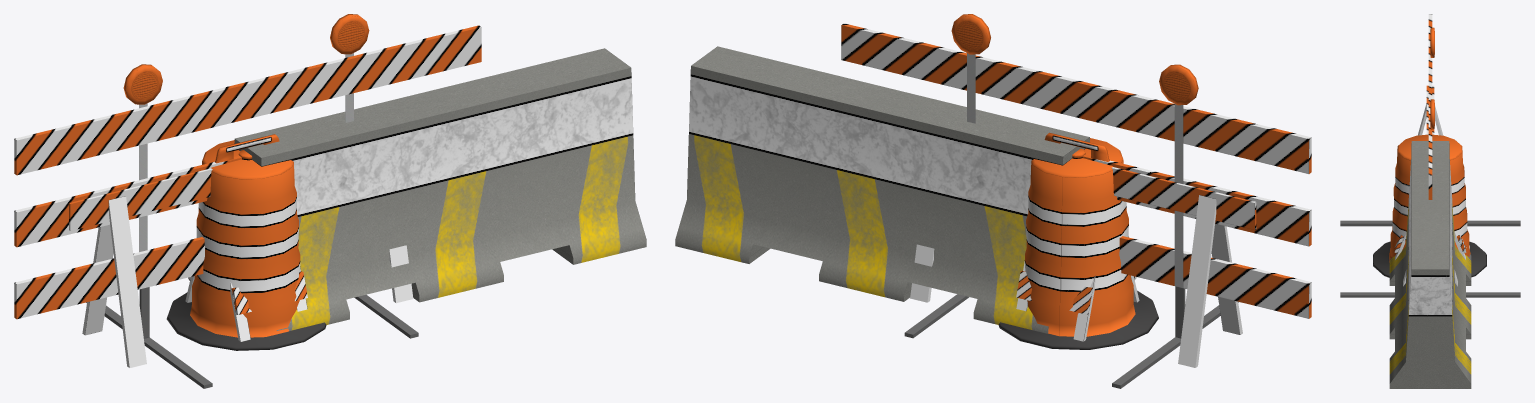
The model's file is roadblocks_mesh.fbx.
3 views of the same model, side by side, from view 1: azimuth 30°, elevation 25°; view 2: azimuth 150°, elevation 25°; view 3: azimuth 270°, elevation 25° (orthographic). The views are drawn at different scales.
Visible parts, largest first — view 1: roadBarrier, bigRoadblock, trafficBarrel, mediumRoadblock, smallRoadblock; view 2: roadBarrier, bigRoadblock, trafficBarrel, mediumRoadblock, smallRoadblock; view 3: roadBarrier, trafficBarrel, bigRoadblock, mediumRoadblock, smallRoadblock.
Boxes of the visible parts, bbox=[...] form: roadBarrier: bbox=[234, 48, 646, 330]; bigRoadblock: bbox=[14, 14, 481, 388]; trafficBarrel: bbox=[166, 134, 326, 350]; mediumRoadblock: bbox=[69, 168, 413, 367]; smallRoadblock: bbox=[185, 266, 307, 341]; roadBarrier: bbox=[675, 46, 1089, 333]; bigRoadblock: bbox=[841, 14, 1311, 388]; trafficBarrel: bbox=[998, 132, 1158, 349]; mediumRoadblock: bbox=[910, 167, 1256, 367]; smallRoadblock: bbox=[1016, 261, 1139, 341]; roadBarrier: bbox=[1389, 141, 1471, 388]; trafficBarrel: bbox=[1373, 134, 1486, 277]; bigRoadblock: bbox=[1340, 14, 1520, 297]; mediumRoadblock: bbox=[1403, 85, 1457, 286]; smallRoadblock: bbox=[1394, 232, 1469, 259].
Size of the model in its own units: 489 by 213 by 178.
